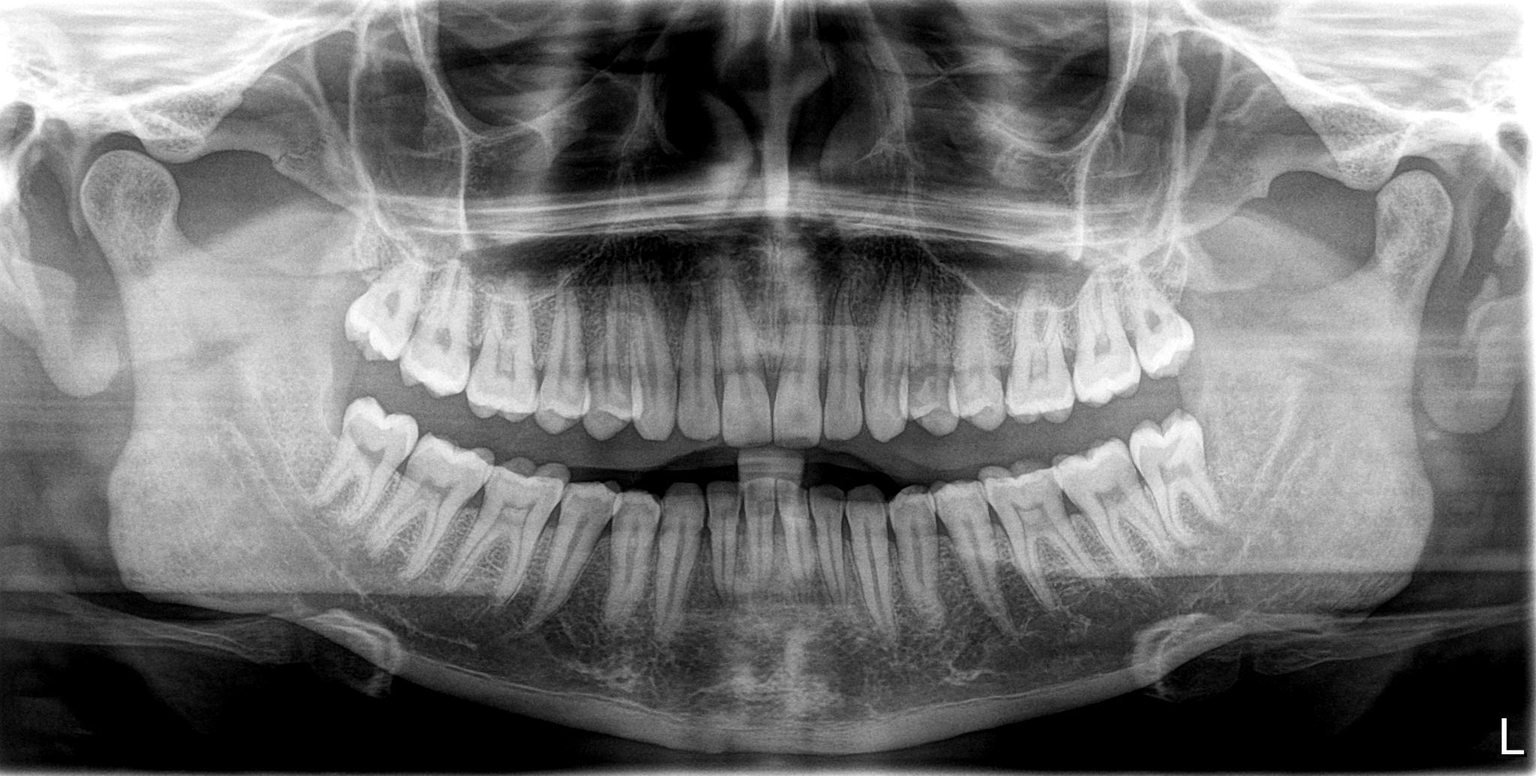Dental Caries: (892, 345, 958, 404)
